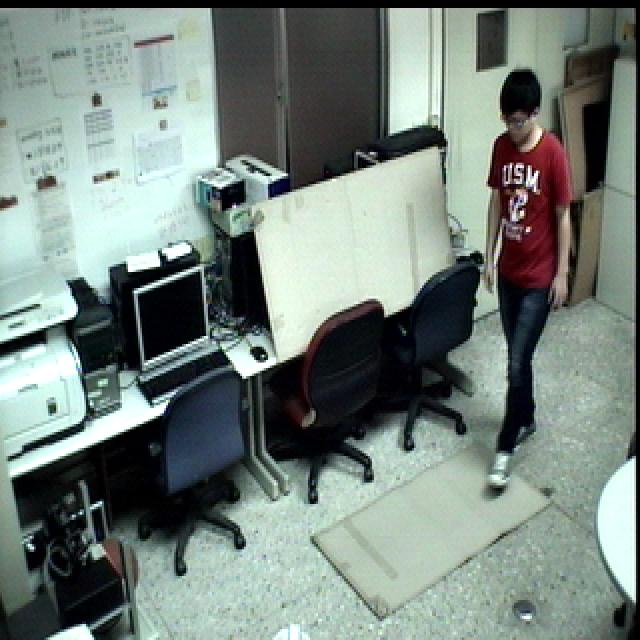stand: (468, 62, 582, 499)
